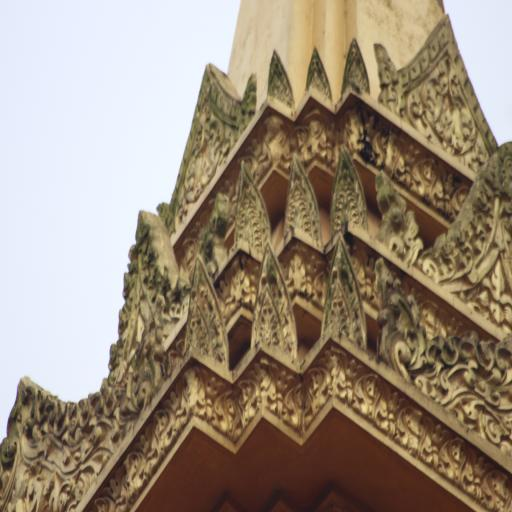la: (422, 315, 512, 436), (371, 266, 424, 376), (422, 56, 476, 156), (473, 228, 512, 332), (260, 360, 305, 431), (11, 464, 70, 512), (121, 346, 161, 416), (398, 396, 434, 468), (370, 122, 407, 183), (356, 355, 384, 430), (148, 407, 180, 466), (442, 426, 470, 490), (483, 452, 512, 512), (177, 370, 208, 424), (121, 445, 148, 505), (302, 364, 330, 418), (298, 117, 330, 162), (212, 383, 237, 439), (412, 156, 444, 199), (332, 347, 354, 405), (284, 250, 311, 296), (239, 370, 258, 434), (259, 122, 283, 172), (224, 269, 250, 310), (385, 374, 400, 443), (465, 447, 482, 501), (346, 109, 363, 161), (434, 416, 446, 474)
